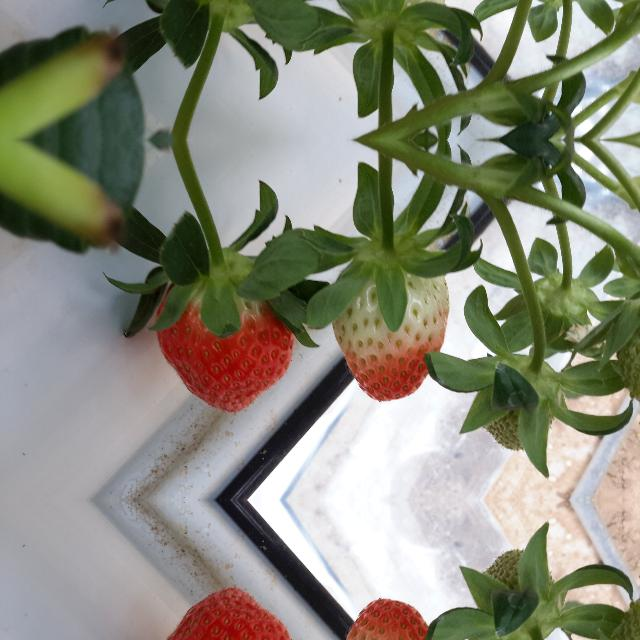Health_100: (150, 262, 298, 414), (150, 585, 297, 640)
Health_25: (466, 344, 566, 456), (465, 544, 566, 640)
Health_75: (331, 270, 449, 402), (331, 597, 449, 640)
